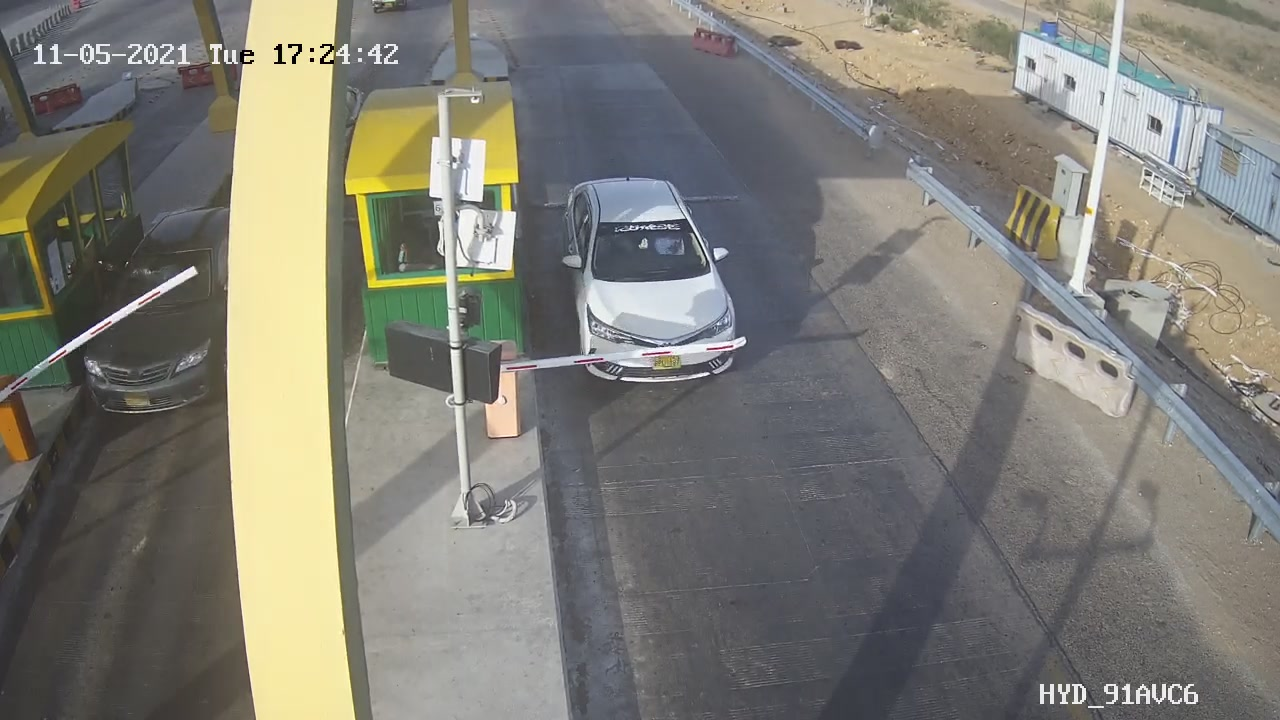F1: (542, 161, 751, 400)
